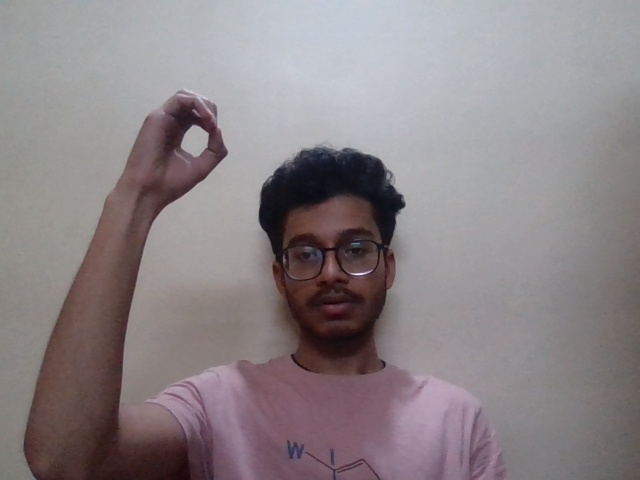O: (115, 84, 236, 233)
